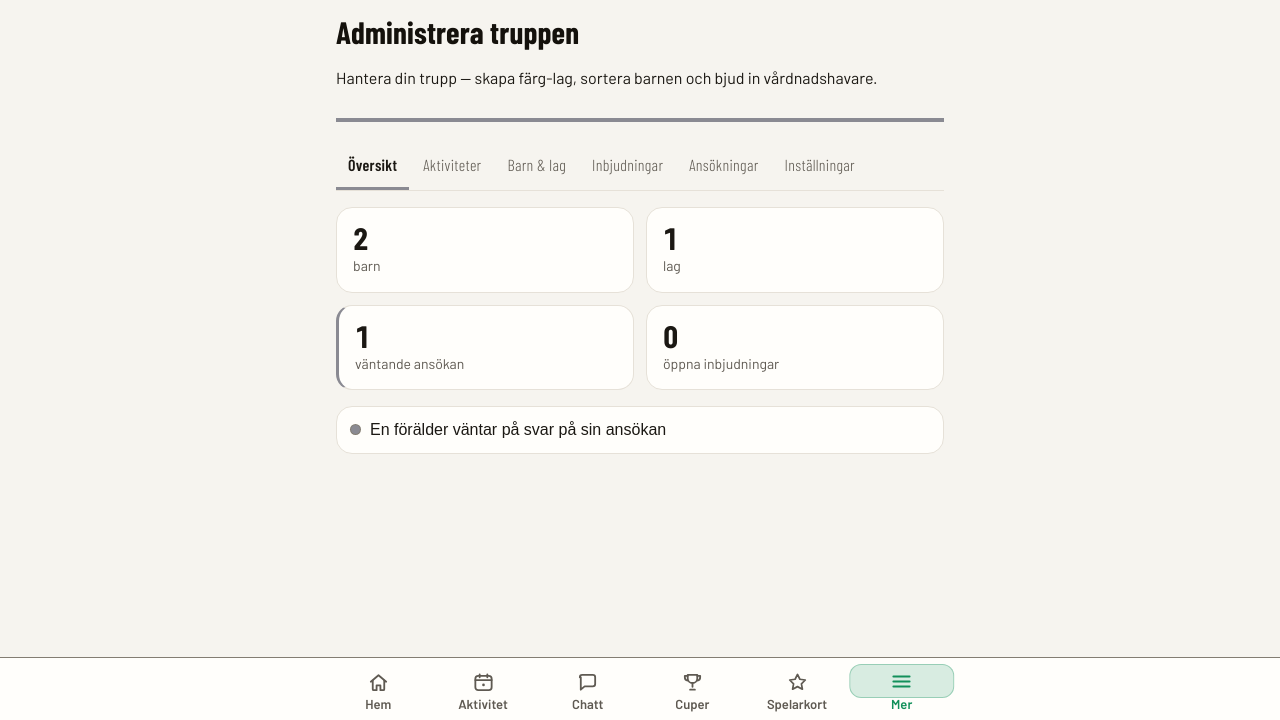
Trupp-adminvyn › landar på översikt och växlar till en sektion (#279)
Check: the button "En förälder väntar på svar på sin ansökan" is shown, box [336, 406, 944, 454]
Check: the text "barn" is shown, box [353, 257, 380, 274]
// Växla till "Barn & lag": Truppen-listan dyker upp och översikten försvinner.
Click the tab "Barn & lag". click: [537, 166]
box: [496, 142, 578, 190]
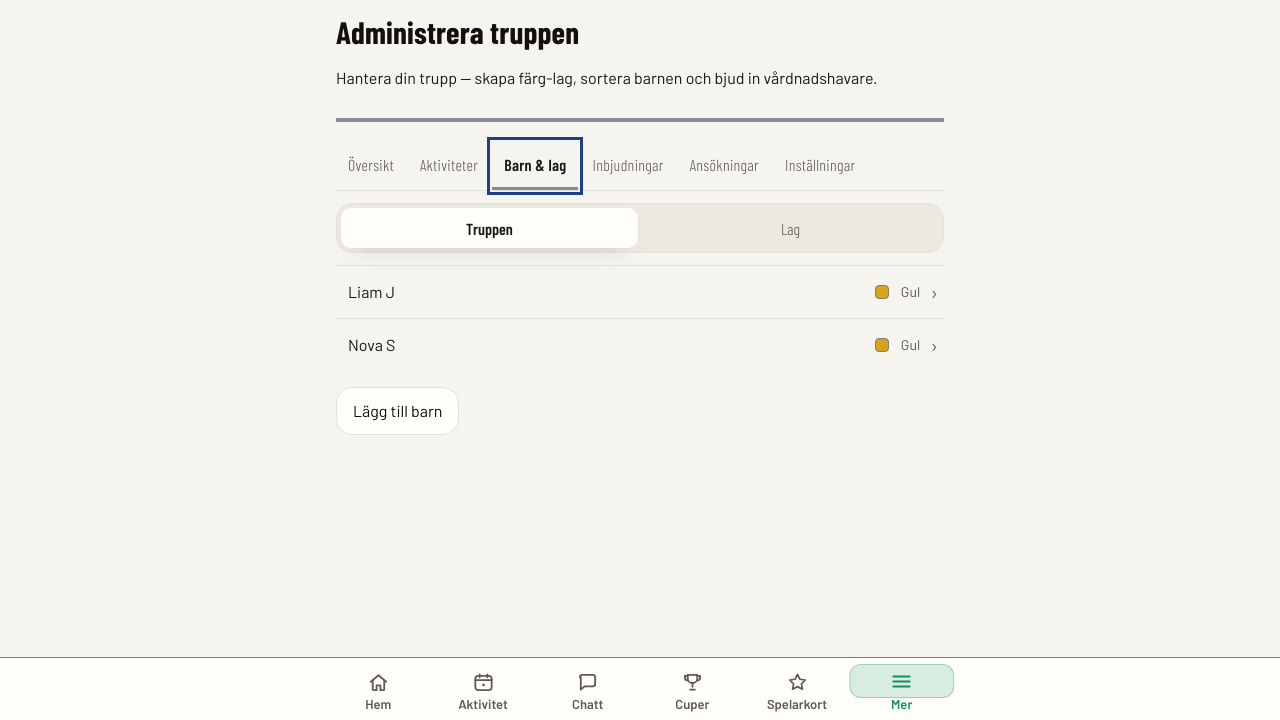
Check: the button "Liam J Gul ›" is shown, box [336, 265, 944, 318]
Check: the button "En förälder väntar på svar på sin ansökan" is gone
